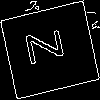Z: (25, 25, 73, 66)
